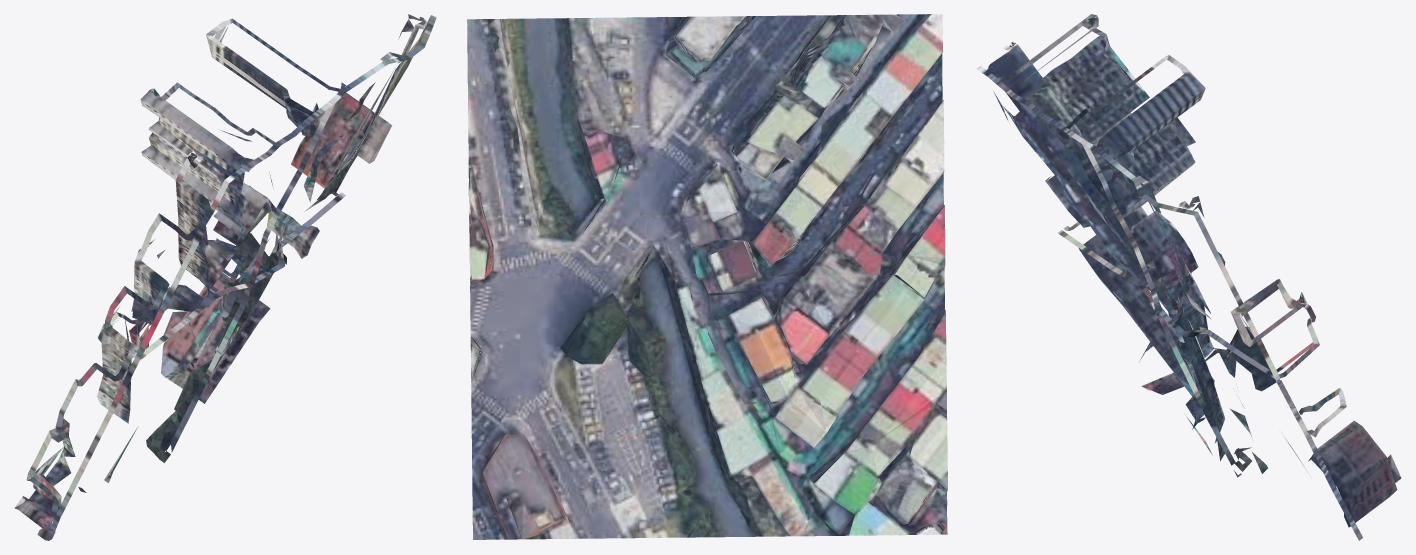
3 views of the same model, side by side, from view 1: azimuth 30°, elevation 25°; view 2: azimuth 150°, elevation 25°; view 3: azimuth 270°, elevation 25° (orthographic). The views are drawn at different scales.
Size of the model in its own units: 158 by 159 by 144.
Materials: 1 (1 with a texture image).
